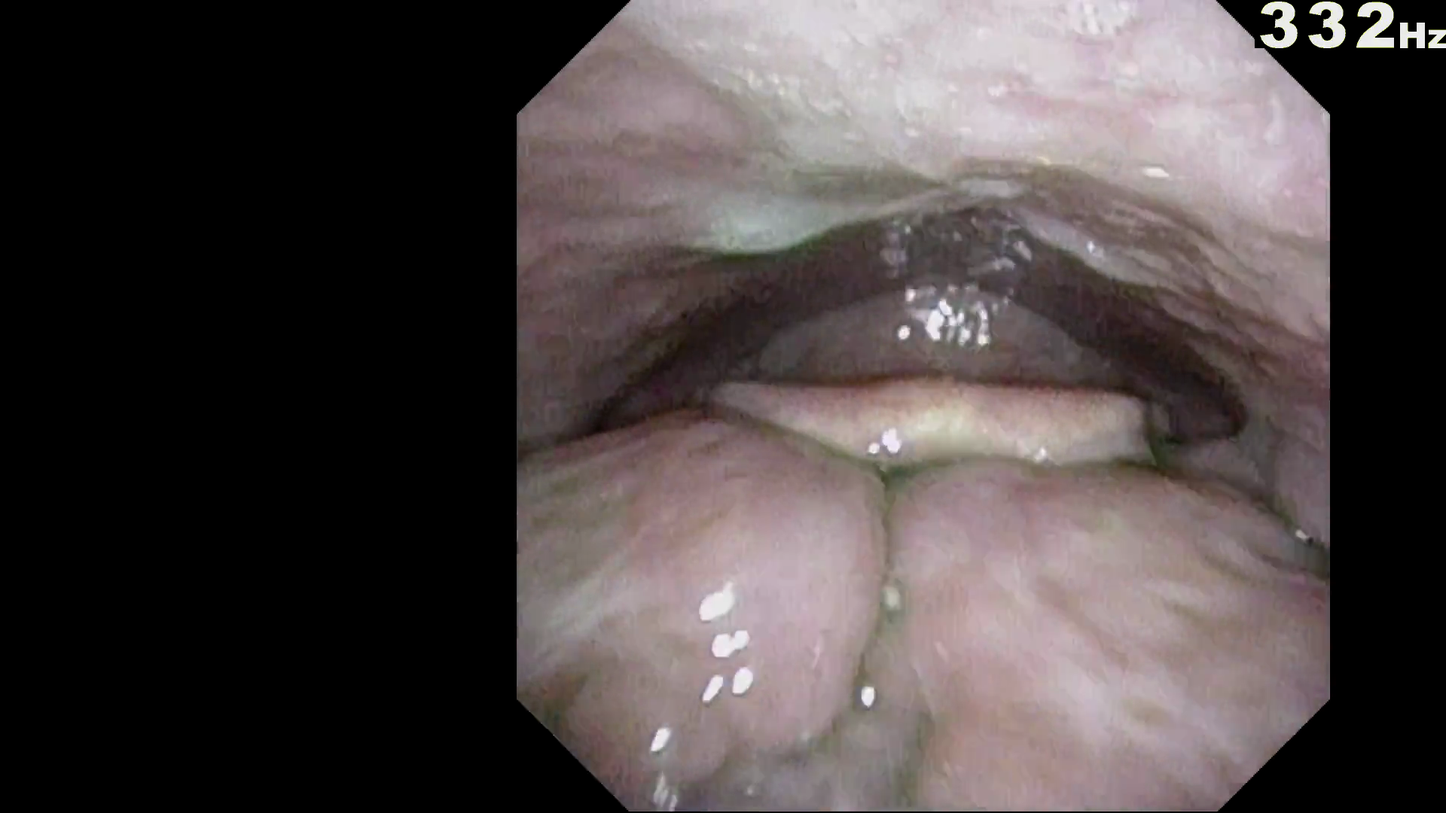epiglottis: (671, 386, 1184, 503)
trachea: (845, 414, 1005, 486)
